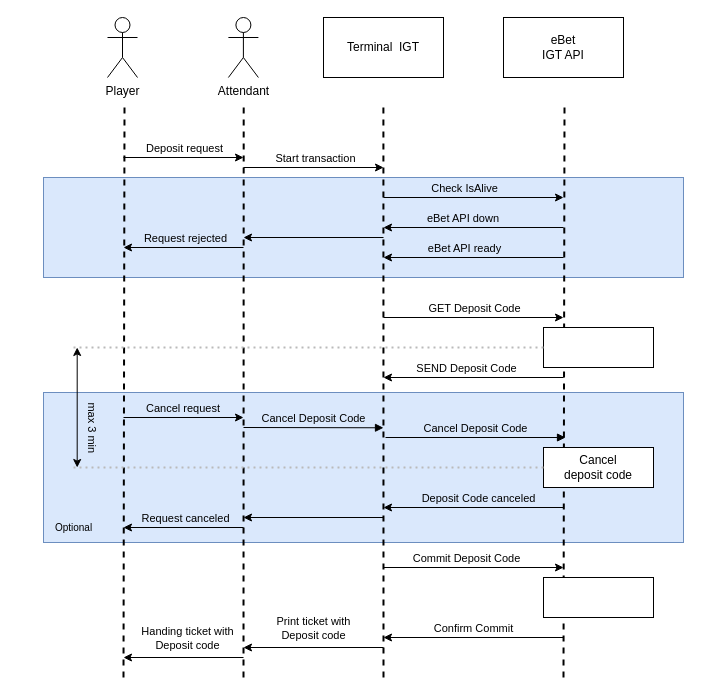
Some shapes in this 701 by 697 pixel diagram are drawn without their labels. The centre of each missing label's shape, as x and y in pixels:
Activate deposit code: the point at 598,597
Create and save deposit code: the point at 598,347
Optional (recomented): the point at 363,227
